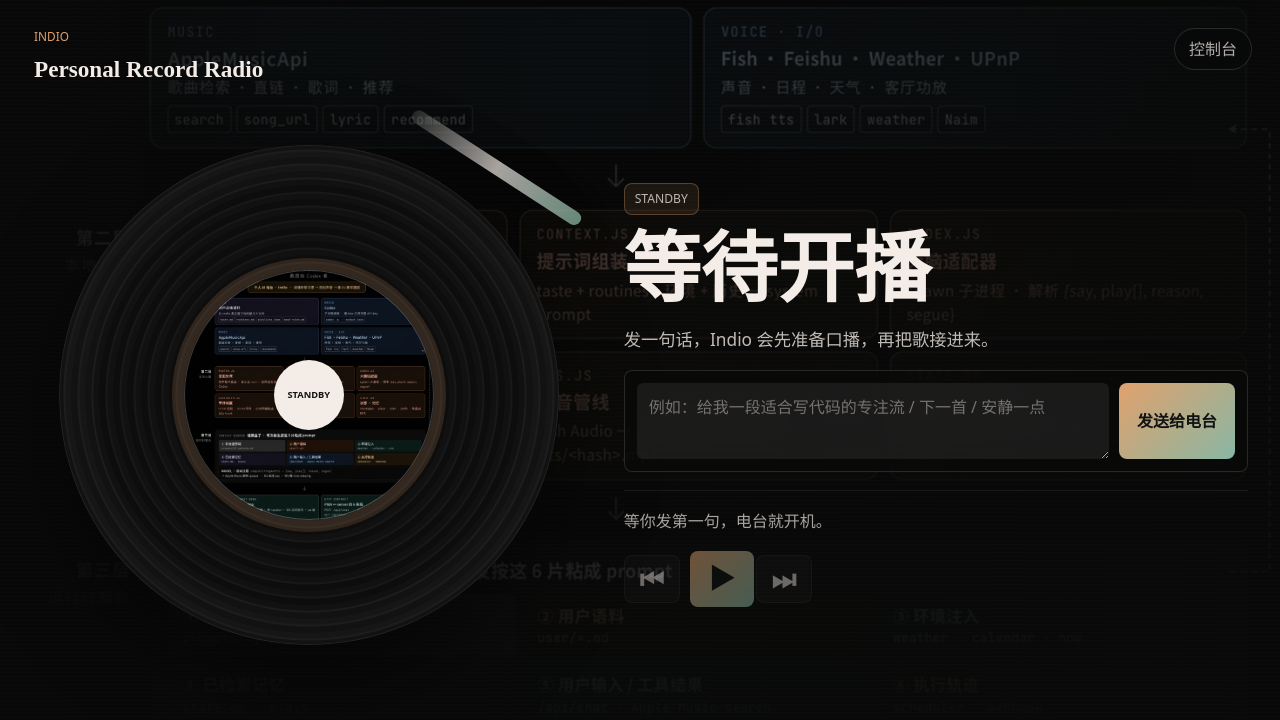
Test: App › renders the immersive standby first screen
Expected: the heading "等待开播" is shown, [624,228,931,313]
Expected: the text "Personal Record Radio" is shown, [34,56,263,82]
Click the button "控制台" at point(1213, 49), box [1174,28,1252,70]
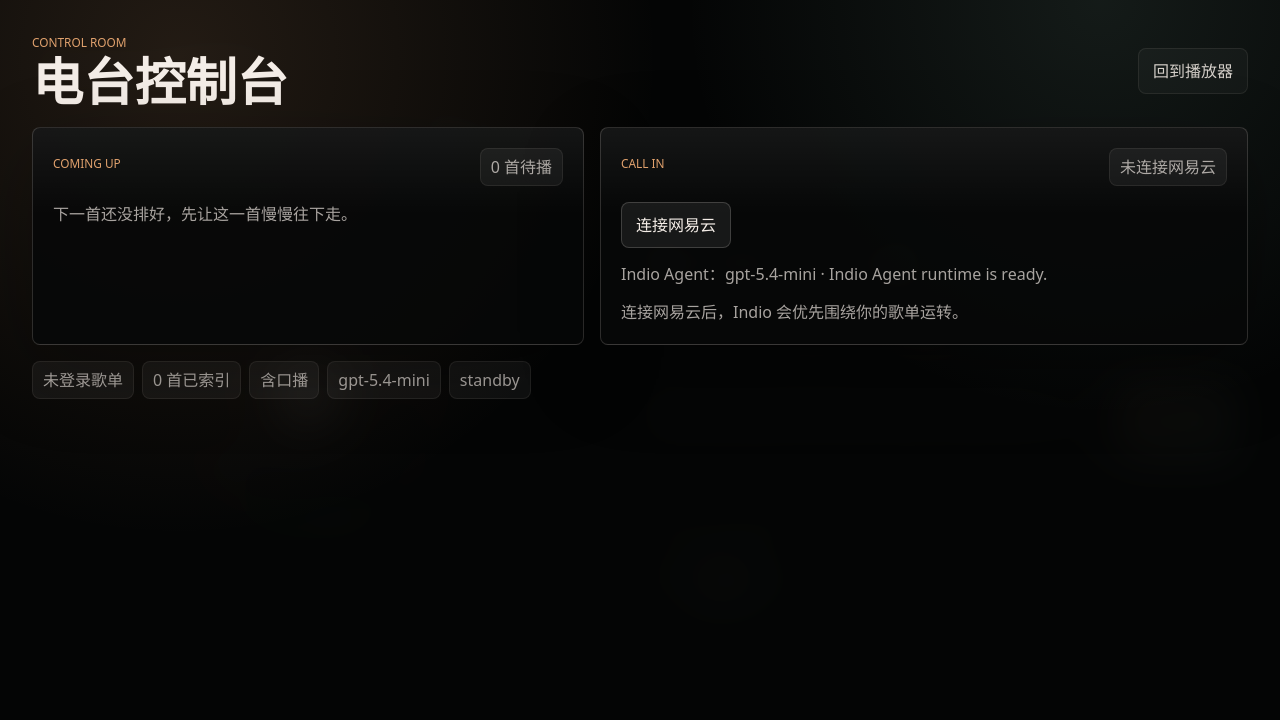
Now the button "连接网易云" is shown, box [621,202,731,248]
